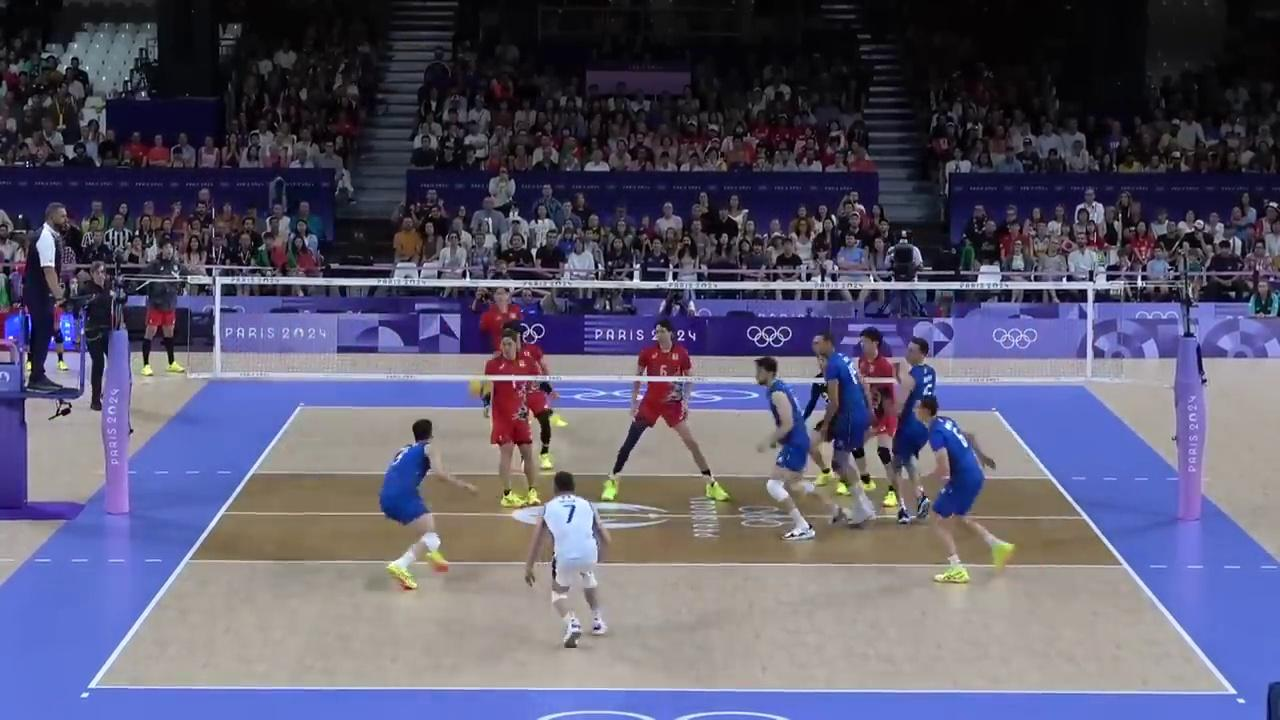ball: (470, 377, 492, 400)
